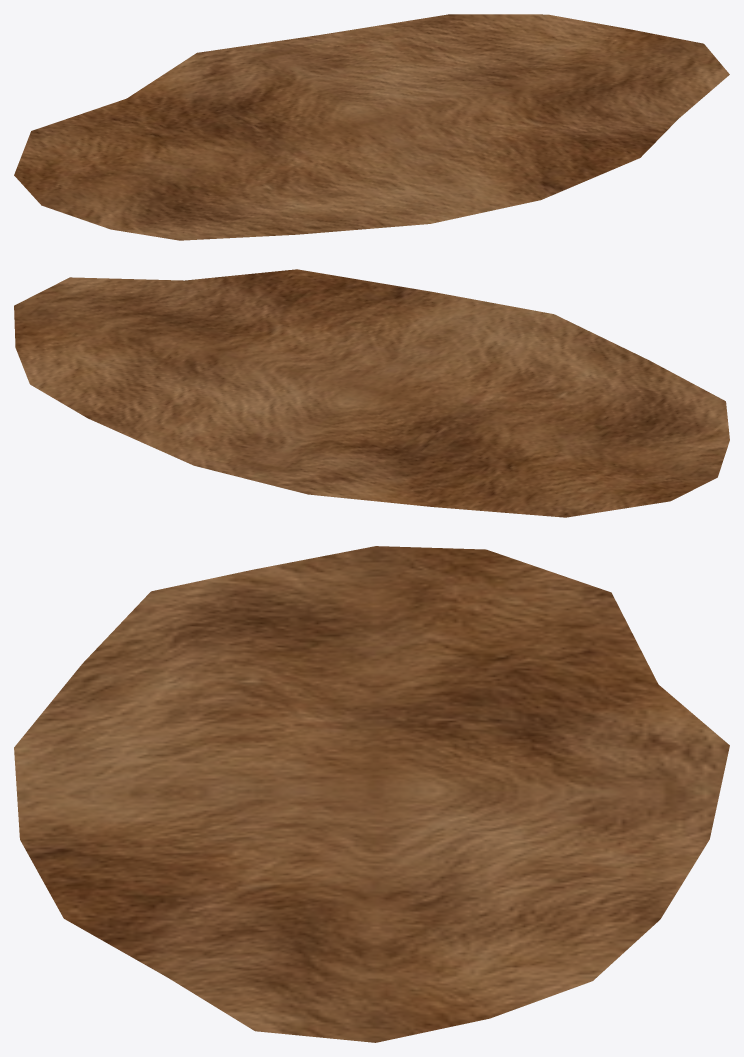
File: hide.glb
3 renders of one model, top to bottom at view 1: azimuth 30°, elevation 25°; view 2: azimuth 150°, elevation 25°; view 3: azimuth 270°, elevation 25°, orthographic. The views are drawn at different scales.
Visible parts, largest first — view 1: part_0; view 2: part_0; view 3: part_0.
Part boxes in pixels (x1,y1,x2,y2): part_0: [14, 14, 729, 240]; part_0: [14, 269, 729, 517]; part_0: [14, 546, 729, 1042].
Size of the model in its own units: 1.07 by 0.0103 by 0.6486.
Materials: 1 (1 with a texture image).
